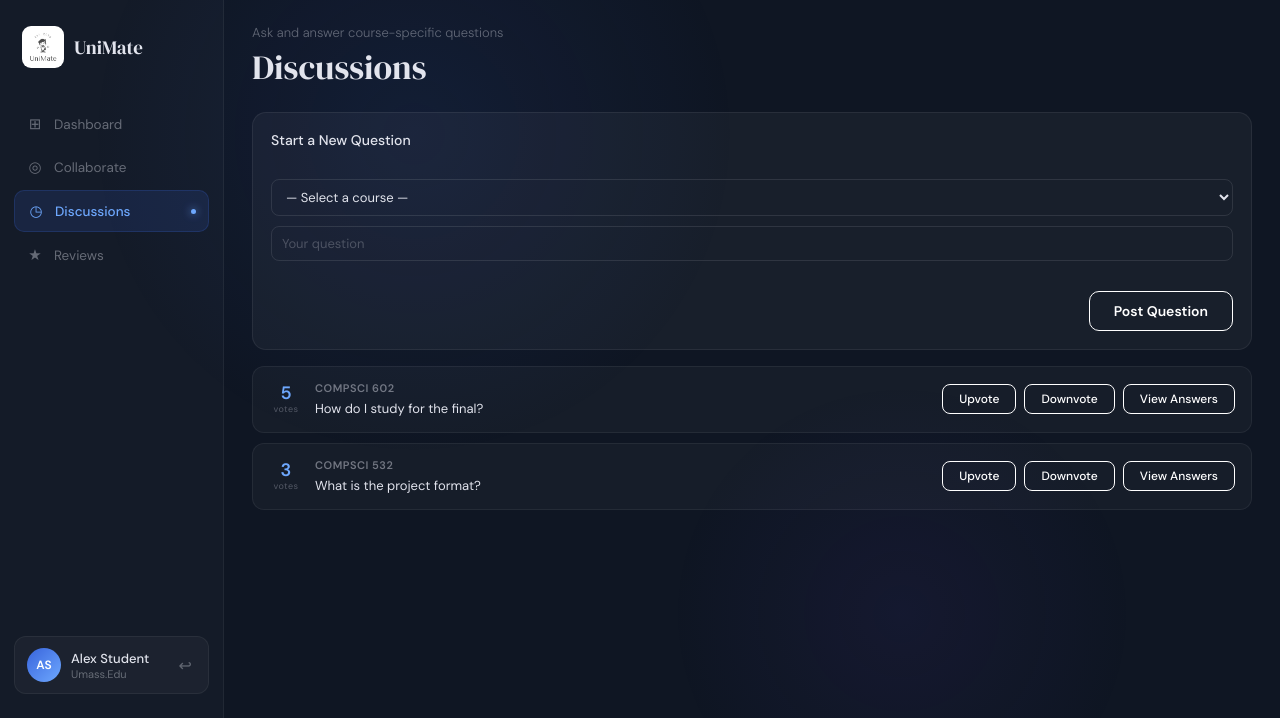
Test: DiscussionsPage › answers › fetches and shows answers when View Answers clicked
Step 1. Click the button "View Answers" in the row of "How do I study for the final?" → {"x": 1179, "y": 399}, box [1123,384,1235,414]
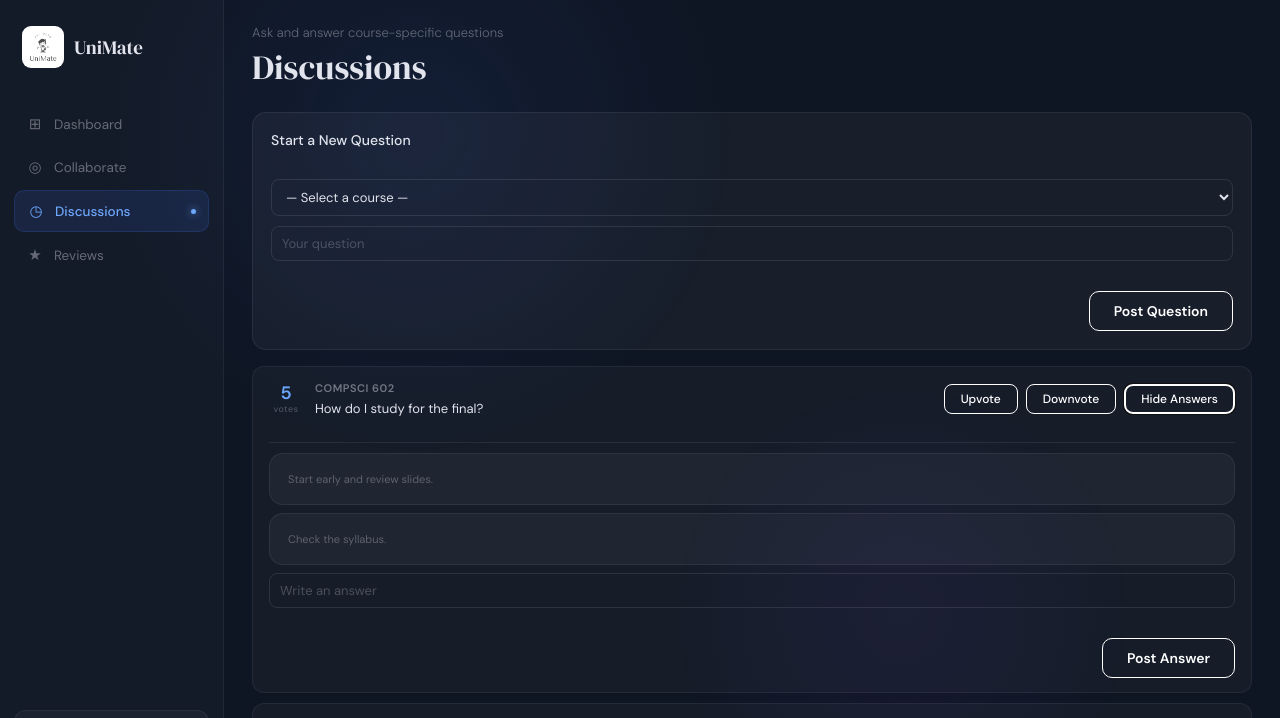
Now the text "Start early and review slides." is shown, box [288,472,433,486]
Now the text "Check the syllabus." is shown, box [288,532,386,546]
